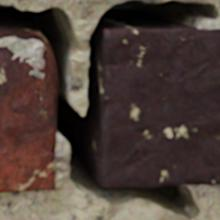brick: (100, 28, 219, 187), (0, 46, 55, 191)
crack: (0, 0, 219, 219)
